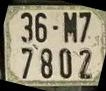-: (52, 25, 60, 33)
0: (58, 47, 72, 80)
2: (78, 49, 92, 80)
3: (20, 12, 34, 44)
6: (35, 12, 48, 43)
7: (79, 12, 94, 45), (19, 47, 34, 79)
8: (39, 49, 54, 79)
M: (64, 11, 78, 43)
